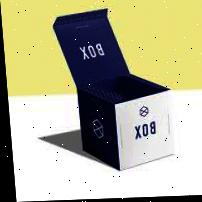cube: (76, 74, 176, 172)
